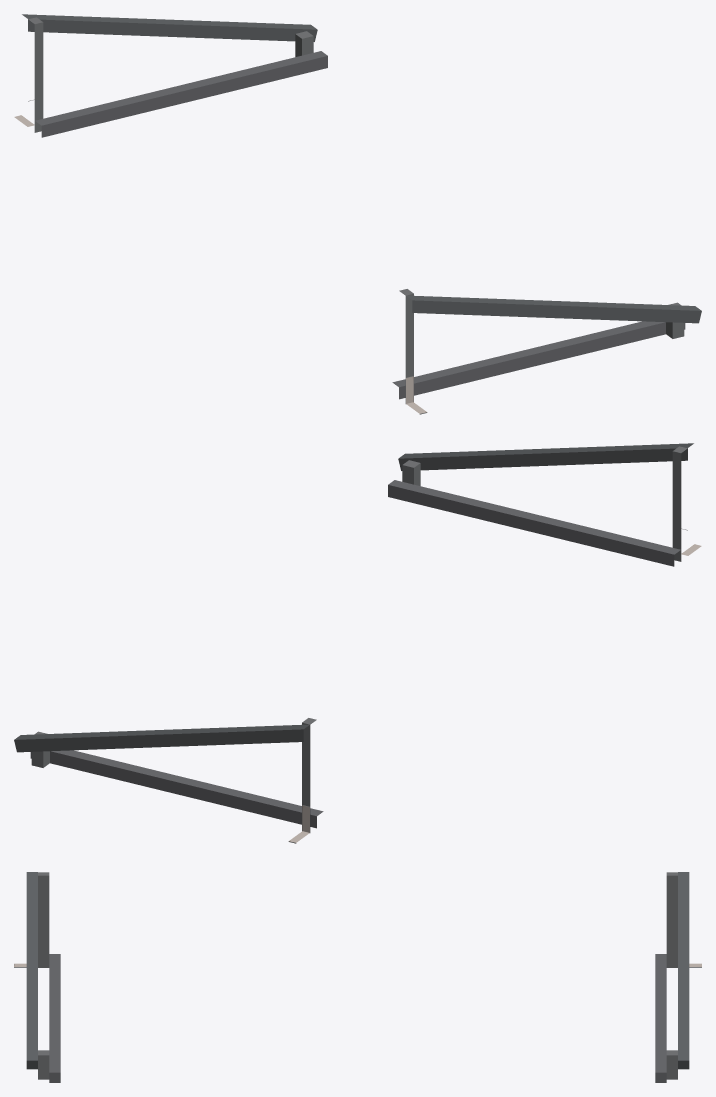
File: kd_stage_135ded_4_73_exterior.glb
3 renders of one model, top to bottom at view 1: azimuth 30°, elevation 25°; view 2: azimuth 150°, elevation 25°; view 3: azimuth 270°, elevation 25°, orthographic. The views are drawn at different scales.
Visible parts, largest first — view 1: kd_stage_135ded_4_73_exterior; view 2: kd_stage_135ded_4_73_exterior; view 3: kd_stage_135ded_4_73_exterior.
Boxes of the visible parts, left/top/right/bottom form: kd_stage_135ded_4_73_exterior: left=14, top=14, right=701, bottom=414; kd_stage_135ded_4_73_exterior: left=14, top=443, right=701, bottom=843; kd_stage_135ded_4_73_exterior: left=14, top=872, right=701, bottom=1082.
Size of the model in its own units: 1.25 by 0.4483 by 3.03.
1 material, 1 textured.
